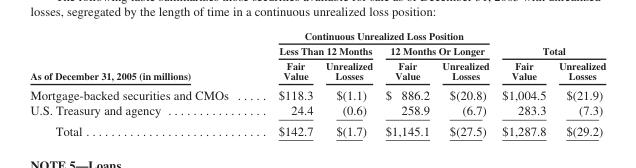table: (29, 29, 605, 137)
table column: (29, 29, 252, 137), (252, 29, 318, 137), (318, 29, 378, 137), (435, 29, 495, 137), (378, 29, 435, 137), (495, 29, 551, 137), (551, 29, 605, 137)
table column header: (29, 29, 605, 84)
table row: (29, 57, 605, 84), (29, 84, 605, 102), (29, 102, 605, 120), (29, 120, 605, 137), (29, 42, 605, 57), (29, 29, 605, 42)
table spanning cell: (29, 29, 252, 84), (252, 29, 495, 42), (495, 29, 605, 57), (252, 42, 378, 57), (378, 42, 495, 57)
